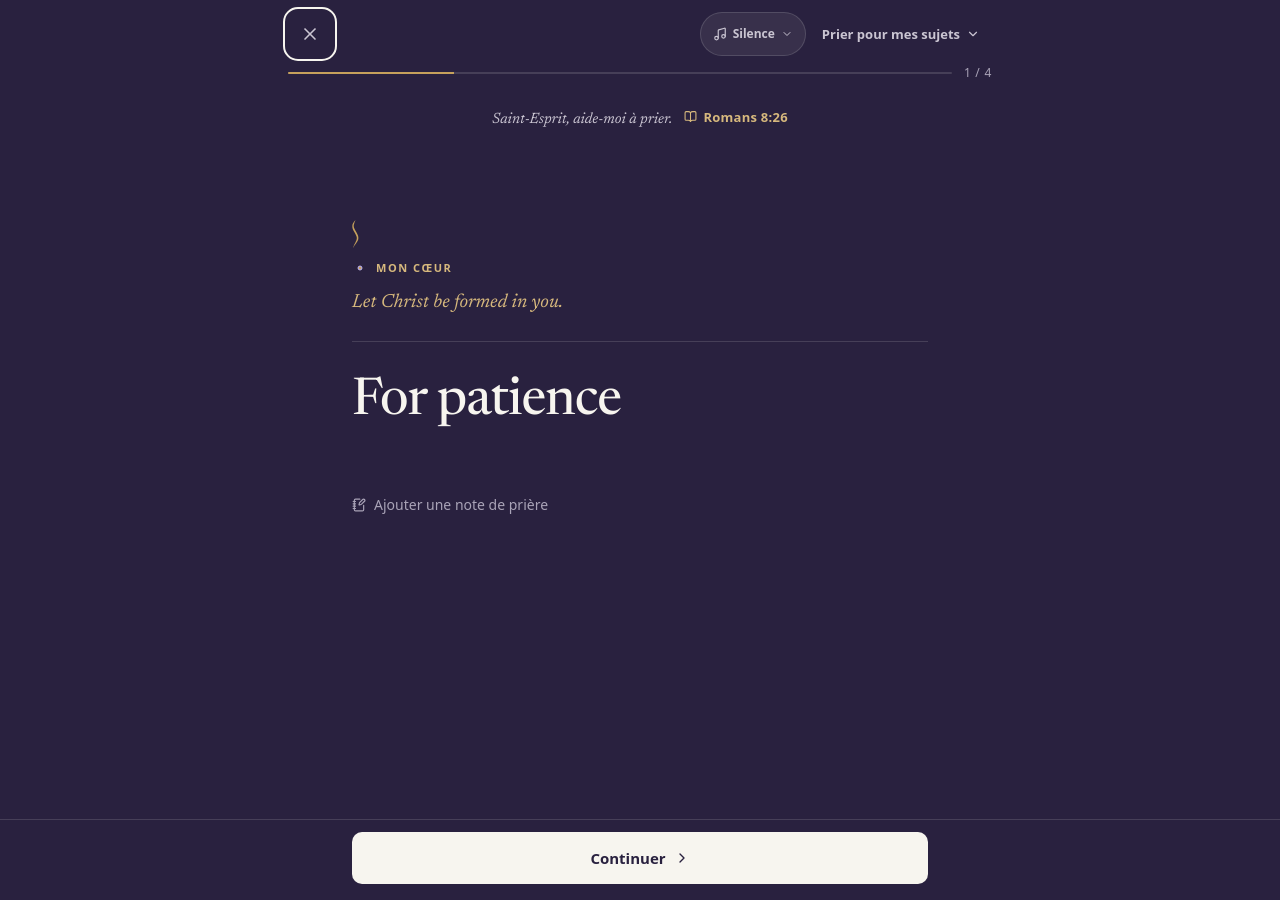
Test: PrayerSession — Pray through my altar › ends as one carried altar — never a count of circles
Click the button "Continuer". click: point(640, 858)
box: [352,832,928,884]
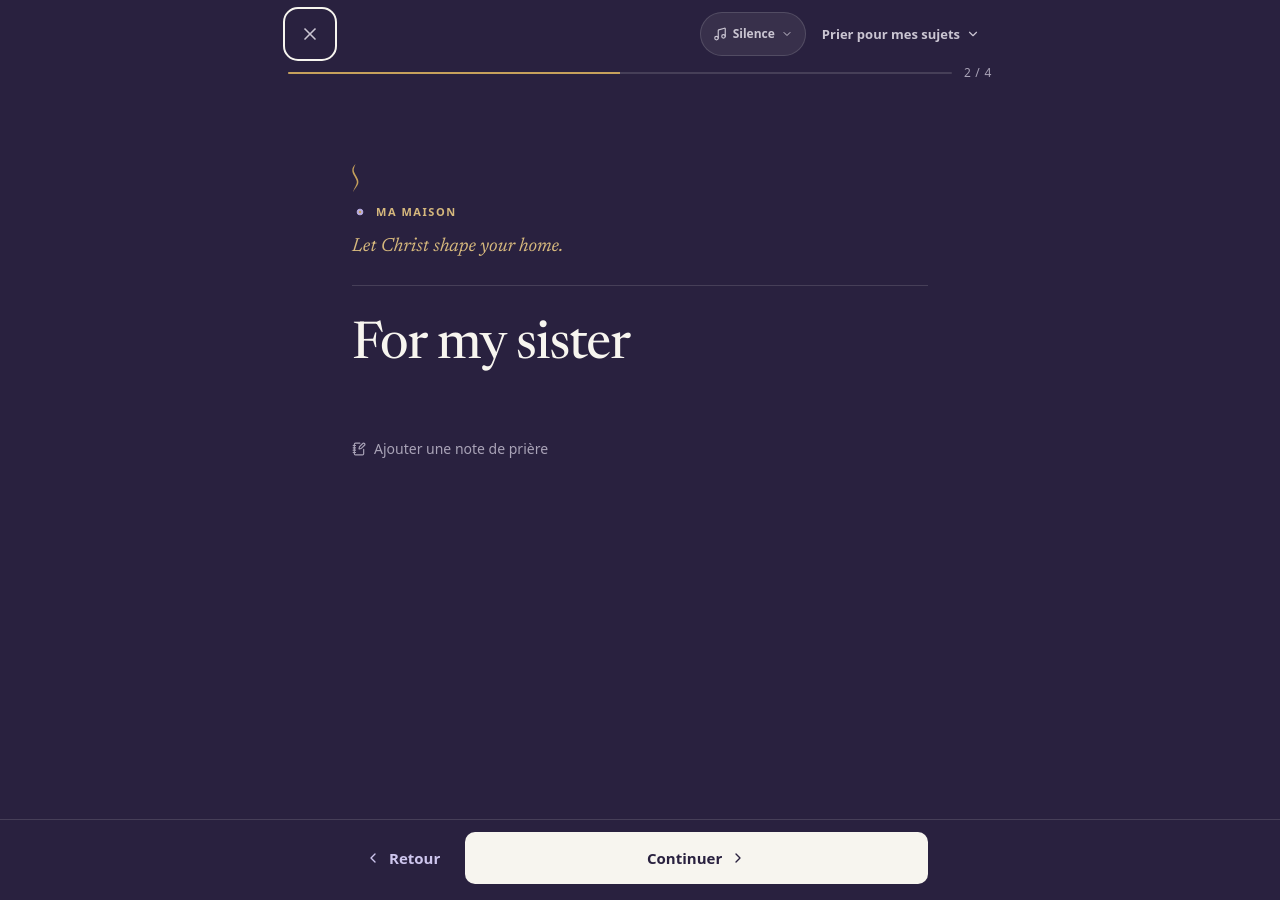
Click the button "Continuer". click: point(697, 858)
box: [465,832,928,884]
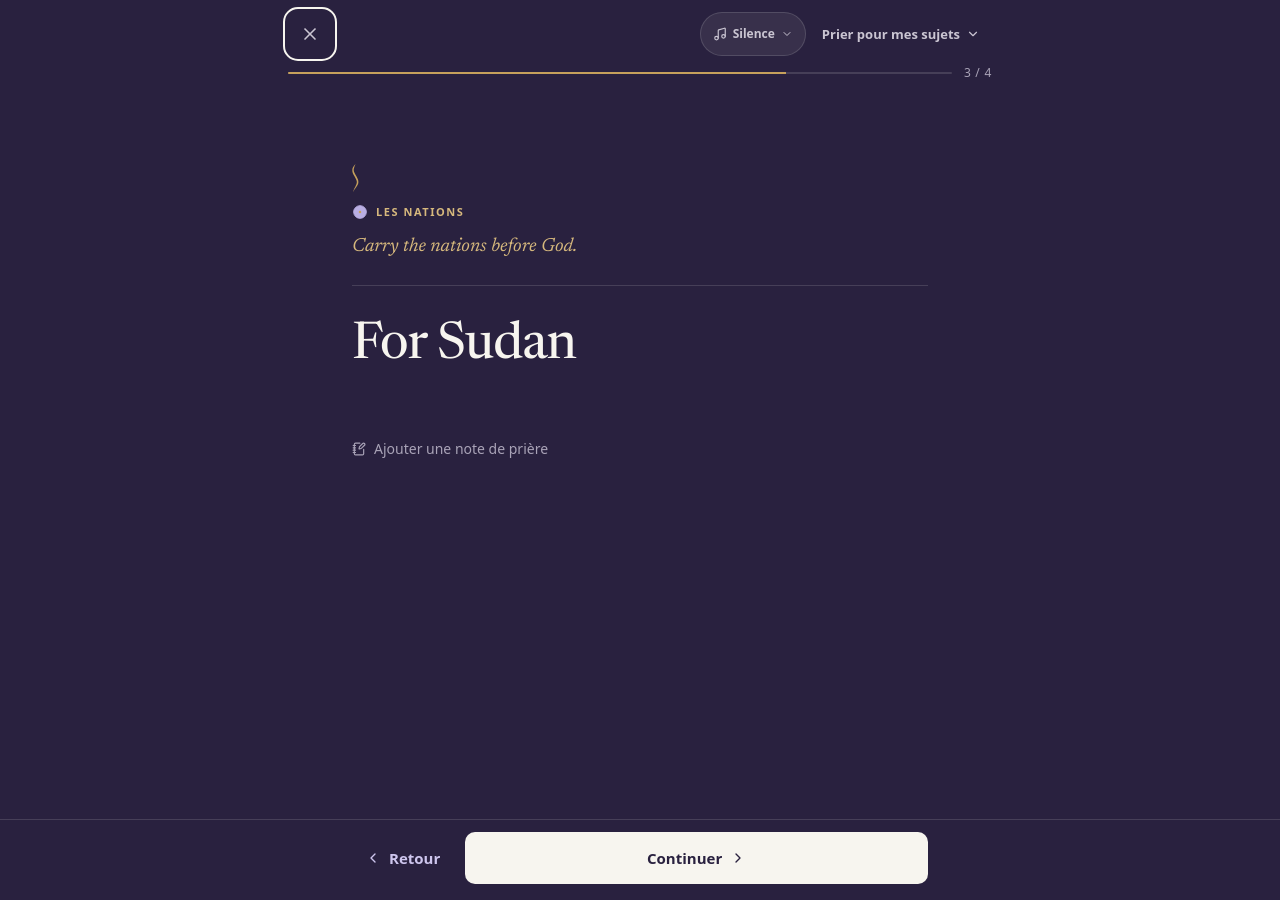
Click the button "Continuer". click: point(697, 858)
box: [465,832,928,884]
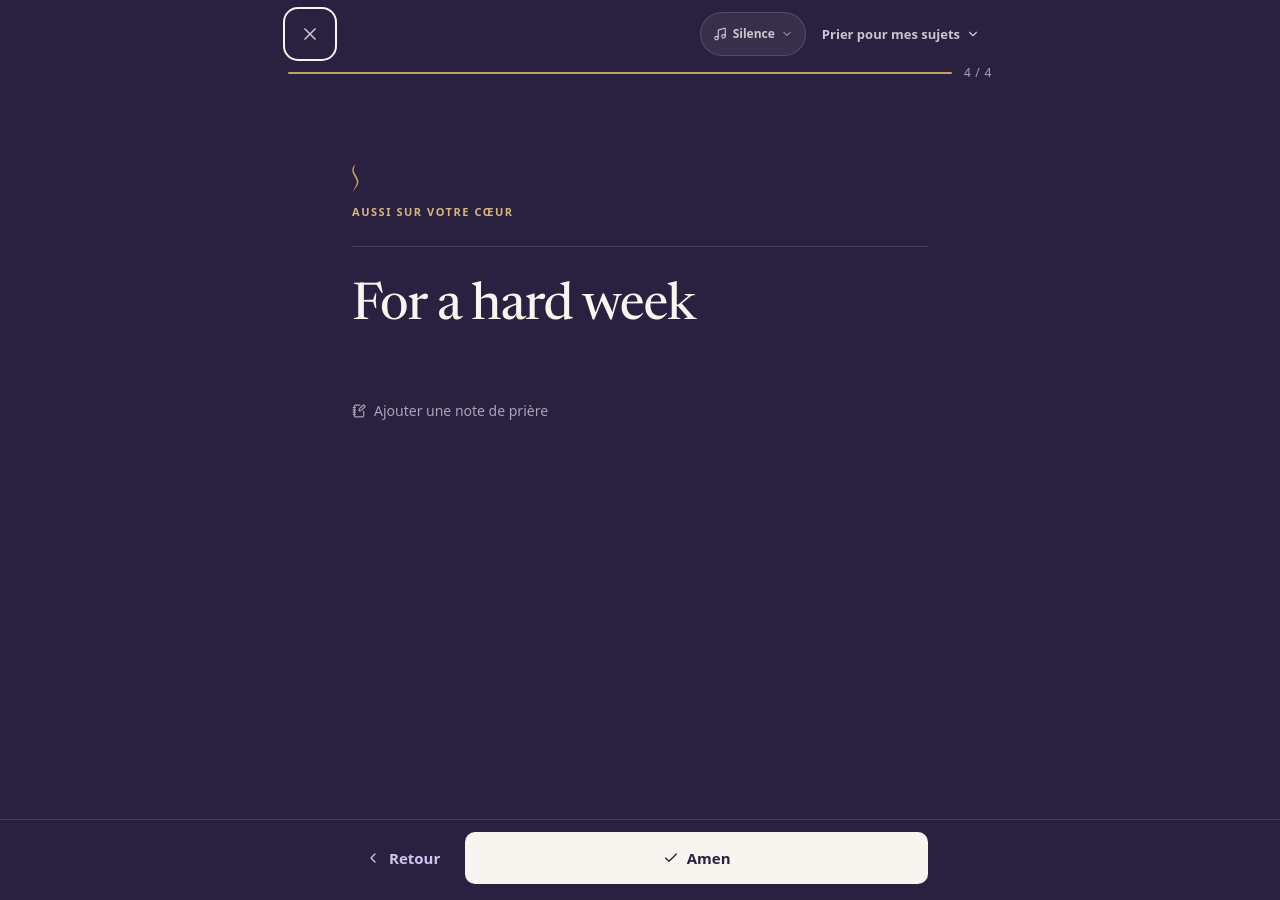
Click the button "Amen". click: point(697, 858)
box: [465,832,928,884]
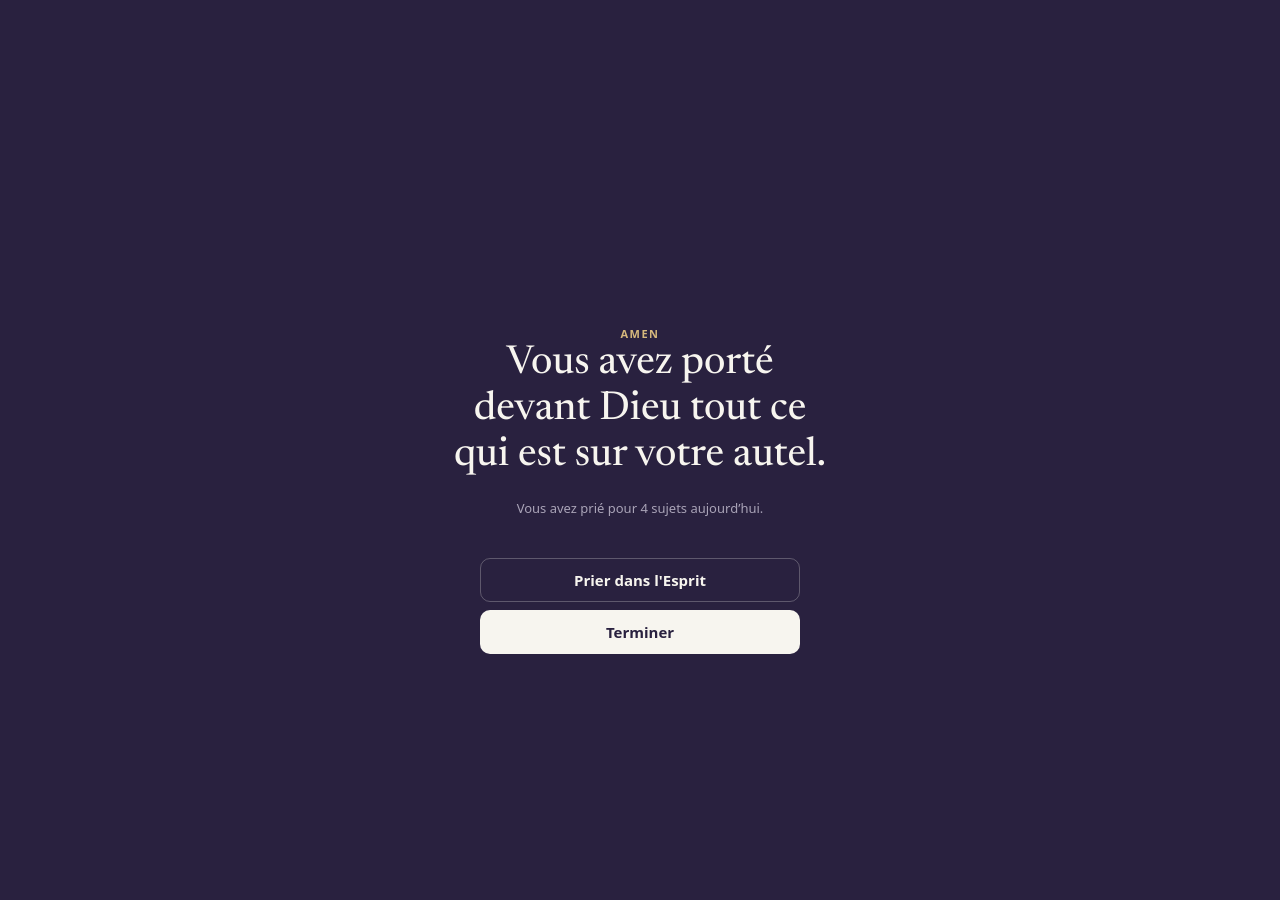
Expected: the heading "Vous avez porté devant Dieu tout ce qui est sur votre autel." is shown, [454,344,826,476]
Expected: the text "Prier dans l'Esprit" is shown, [574,571,706,589]
